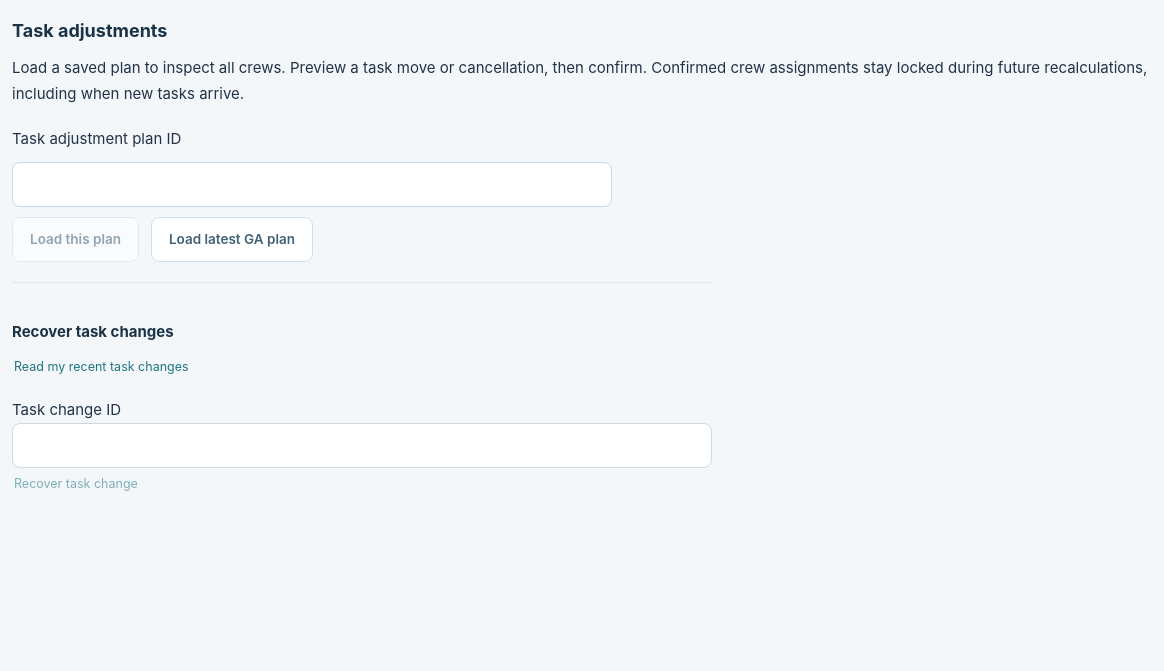
it: supports cancellation of an unassigned active task without a destination crew
Click the button "Load latest GA plan" at (232, 240), box x1=151 y1=217 x2=313 y2=262
(page scrolled)
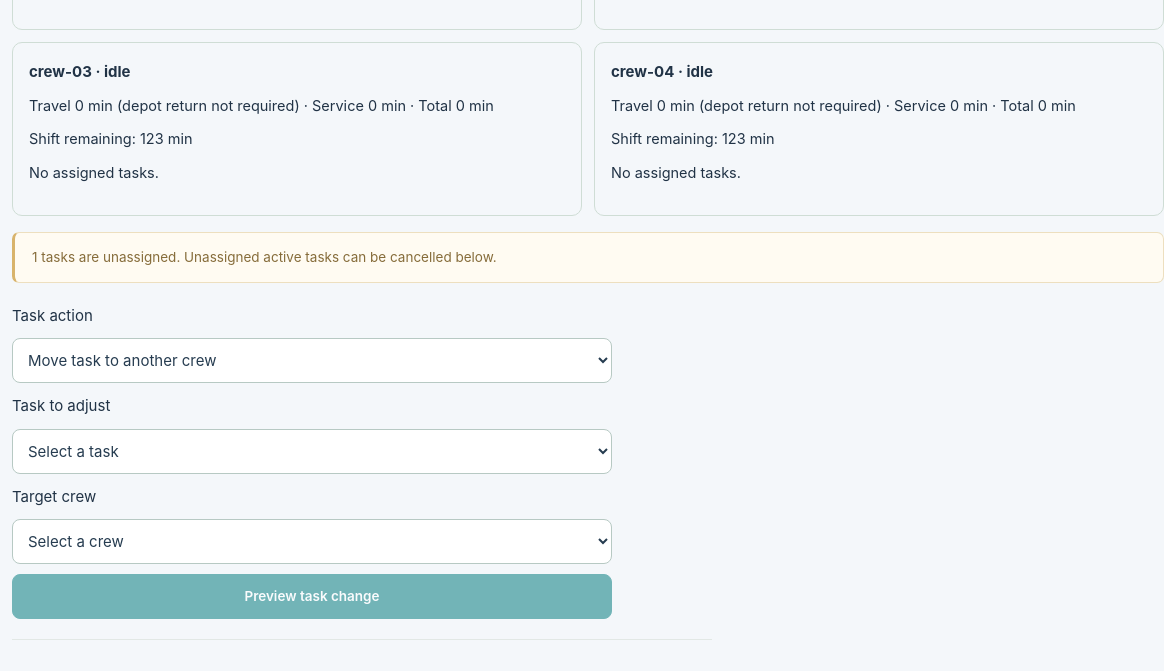
Select "Cancel active task" in the dropdown labelled "Task action" at (312, 361), box x1=12 y1=338 x2=612 y2=383
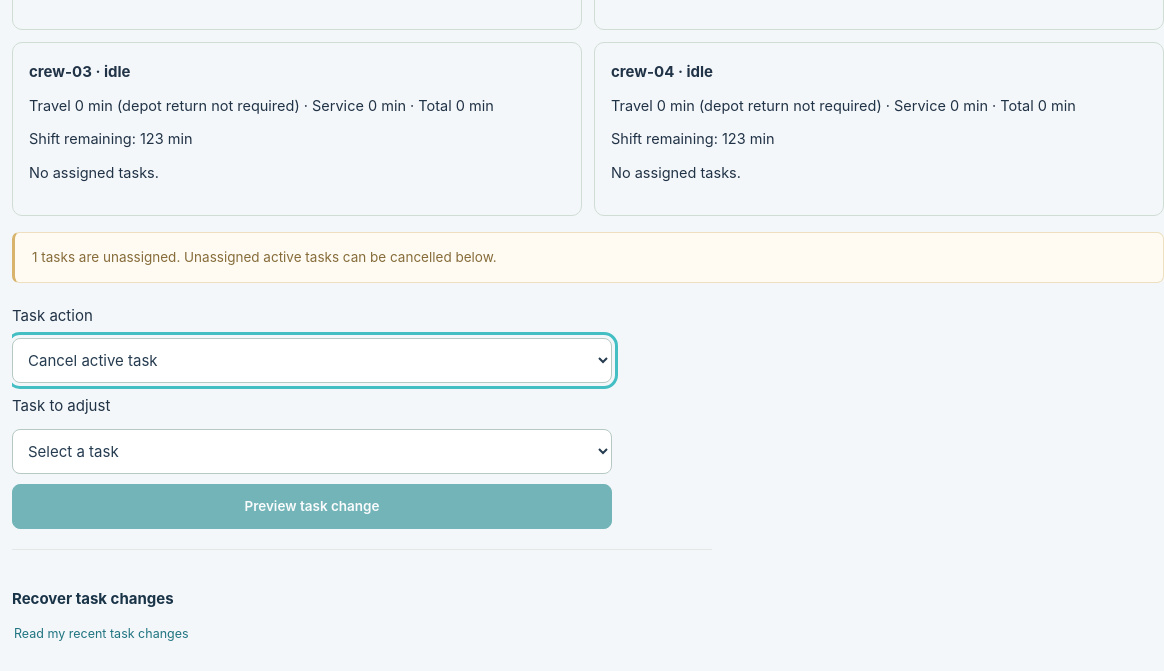
Select "Unassigned / unassigned-test" in the dropdown labelled "Task to adjust" at (312, 451), box x1=12 y1=429 x2=612 y2=474
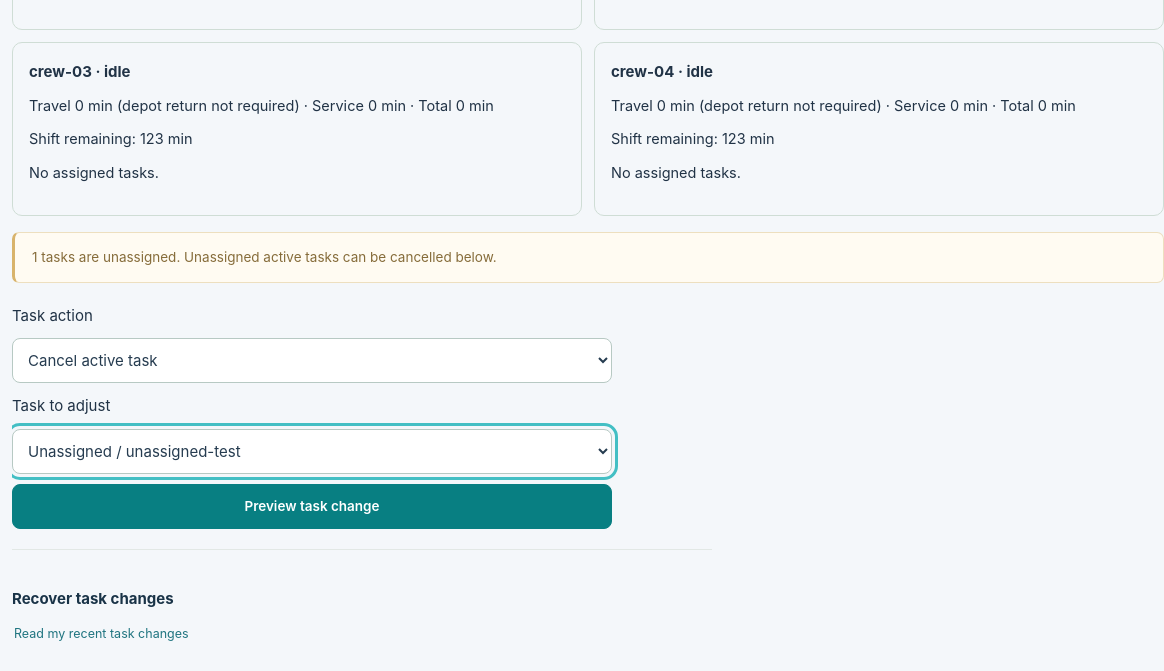
Click the button "Preview task change" at (312, 506), box x1=12 y1=484 x2=612 y2=529
(page scrolled)
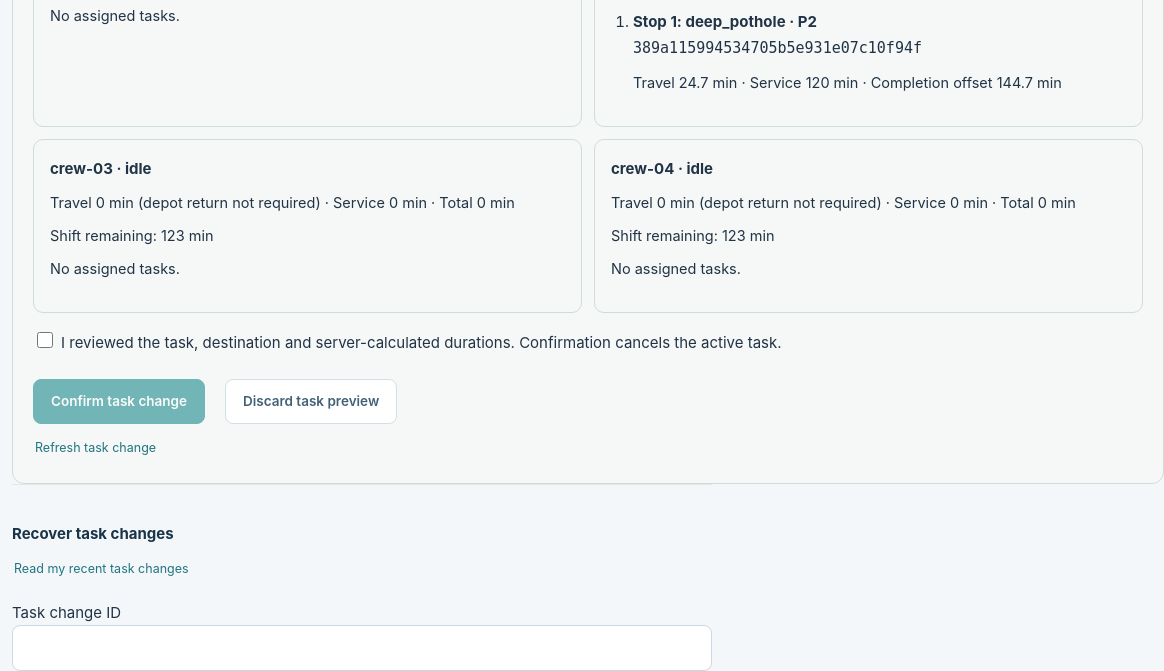
expect the label labelled "Target crew" is not shown: met
expect the button "Discard task preview" is shown: met, box x1=225 y1=379 x2=397 y2=424
